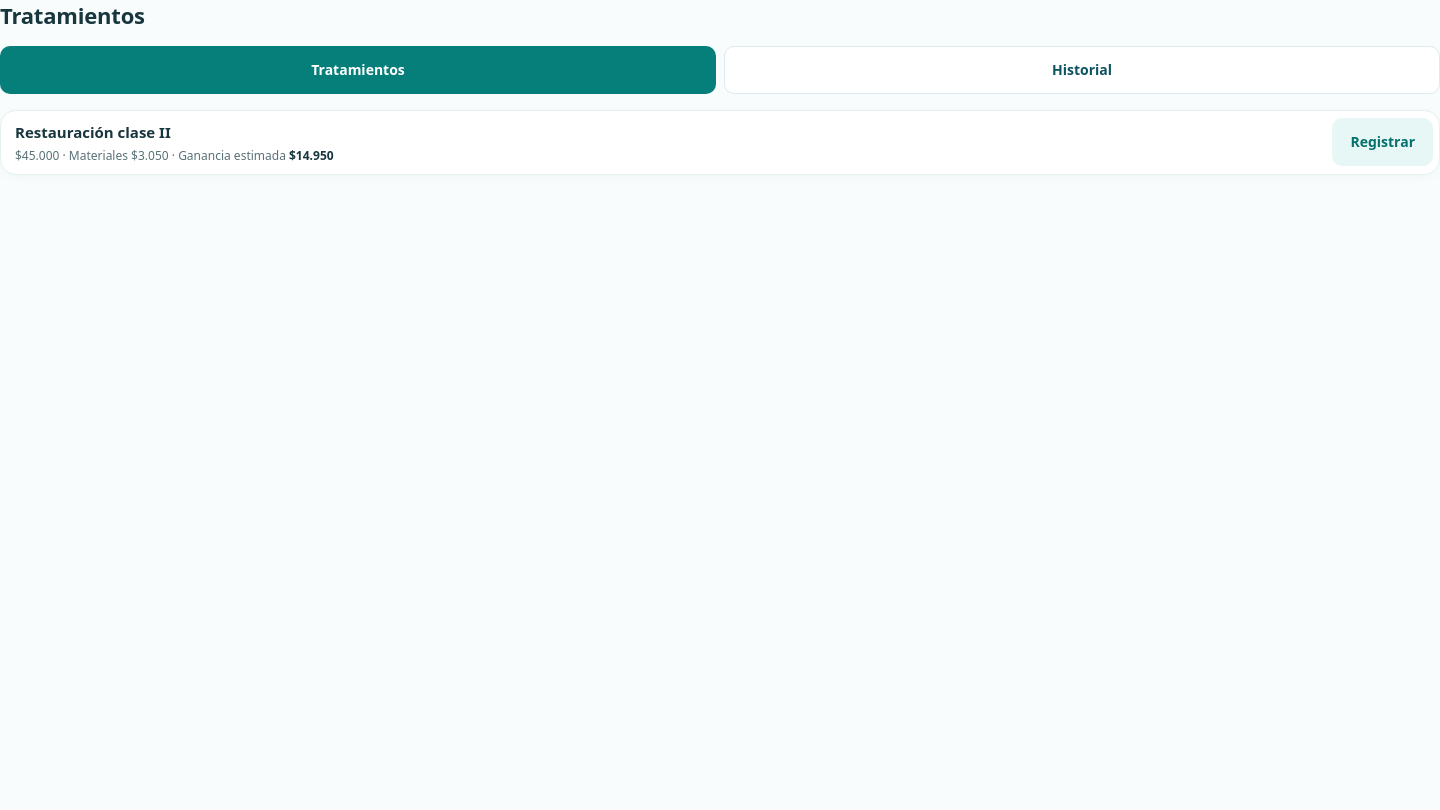
Test: registrar un tratamiento realizado (US3) › con faltante avisa cuánto hay y no deja registrar hasta ajustar (FR-015)
Click the button with aria-label "Registrar Restauración clase II" at point(1383, 142), box [1332, 118, 1433, 166]
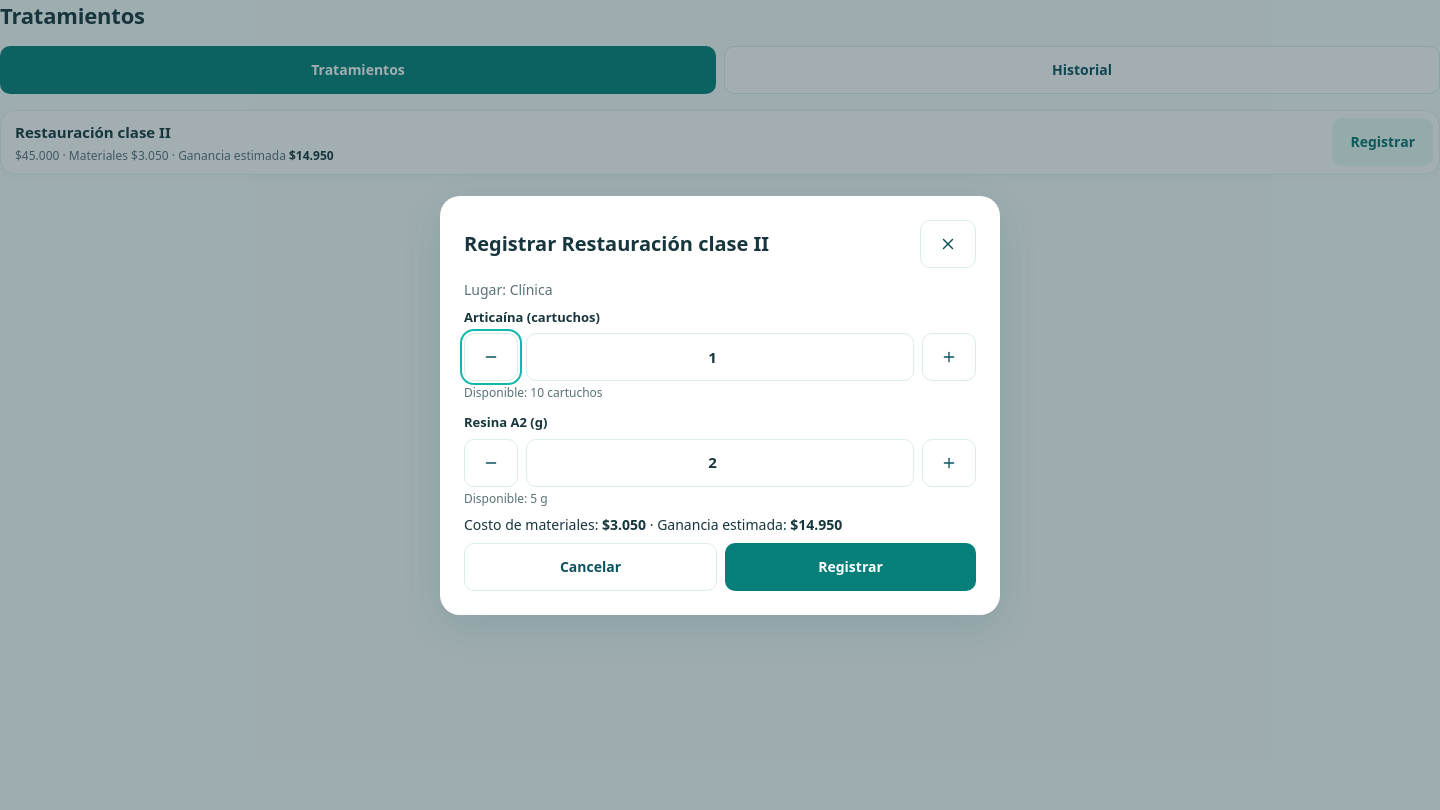
Replace the text in the number field labelled "Resina A2 (g)" with "7" at point(720, 463), box [527, 451, 913, 474]
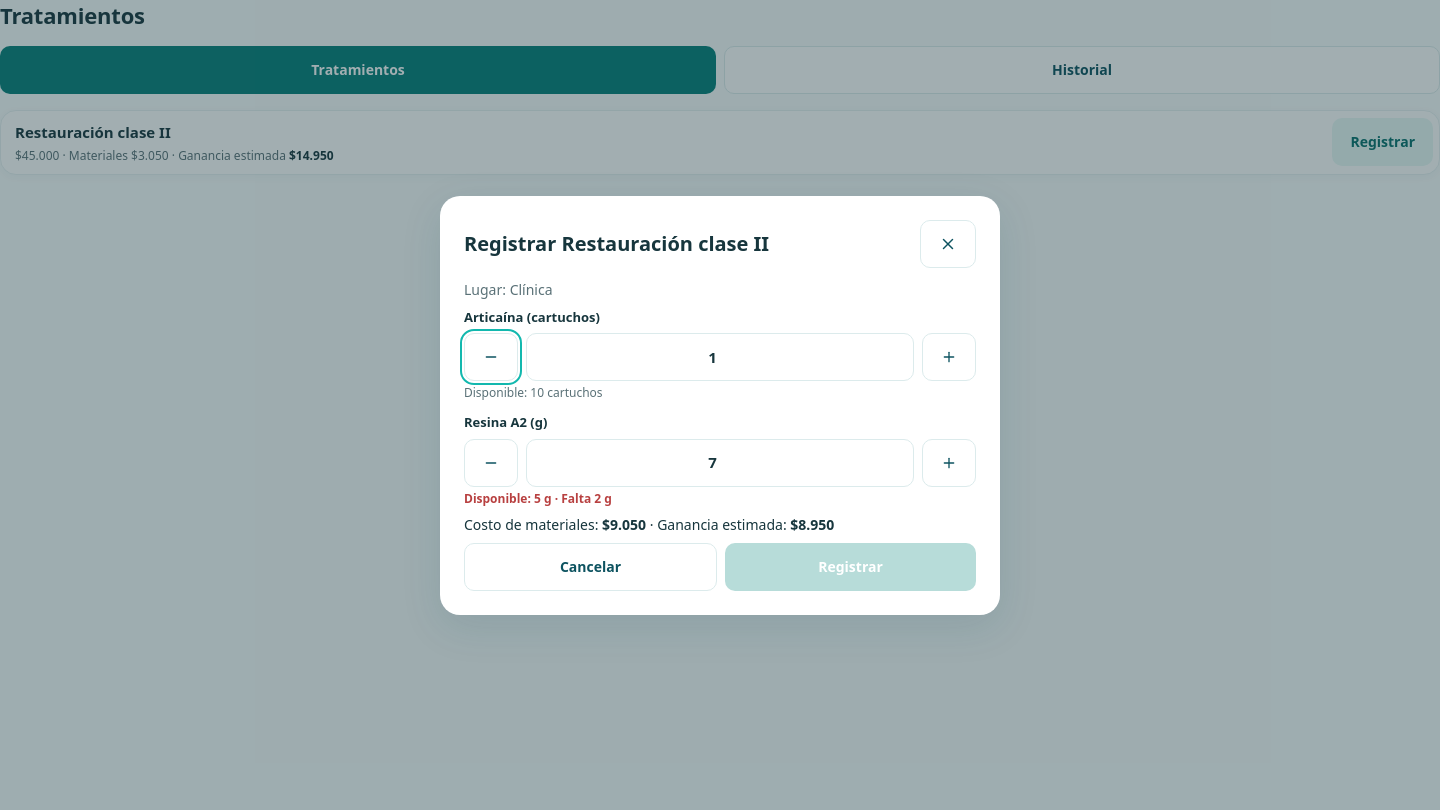
Expected: the text "Disponible: 5 g · Falta 2 g" is shown, [464, 490, 612, 506]
Expected: the button "Registrar" is disabled, [725, 542, 976, 590]
Replace the text in the number field labelled "Resina A2 (g)" with "5" at point(720, 463), box [527, 451, 913, 474]
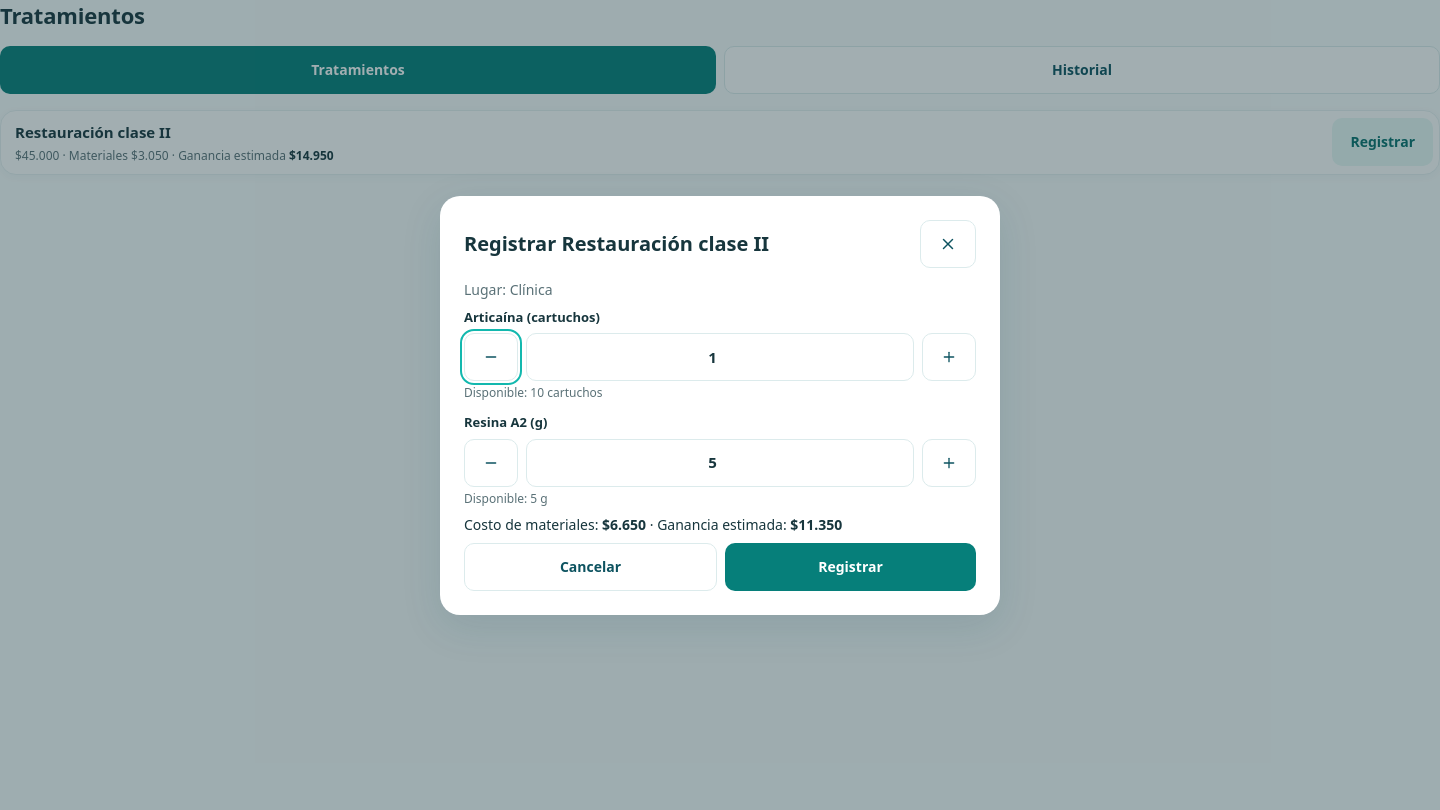
Expected: the button "Registrar" is enabled, [725, 542, 976, 590]
